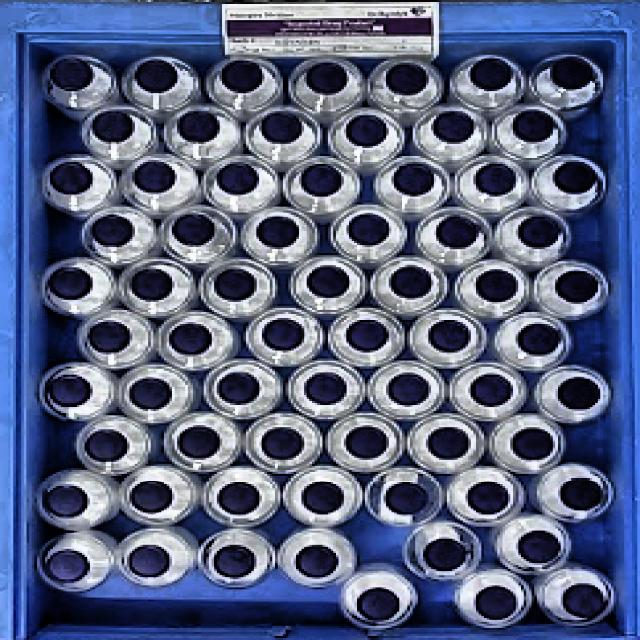vial: (553, 269, 613, 303), (382, 60, 437, 96), (466, 57, 518, 95), (212, 544, 261, 584), (340, 424, 390, 463), (130, 479, 182, 516), (509, 107, 558, 146), (298, 369, 351, 405), (296, 160, 346, 198), (548, 56, 599, 93), (124, 542, 175, 579), (211, 370, 263, 406), (558, 584, 610, 620), (86, 212, 135, 250), (509, 428, 562, 462), (513, 530, 563, 566), (264, 316, 310, 355), (422, 536, 468, 575), (382, 368, 431, 404), (262, 425, 307, 464), (550, 157, 596, 195), (385, 267, 436, 301), (132, 159, 177, 197), (354, 588, 404, 622), (515, 323, 562, 359), (382, 479, 429, 515), (343, 213, 394, 246), (518, 212, 562, 250), (46, 548, 90, 586), (554, 480, 603, 514), (47, 371, 92, 408), (555, 375, 600, 412), (130, 267, 178, 301), (212, 161, 256, 198), (474, 584, 519, 620), (432, 109, 478, 144), (436, 214, 483, 248), (305, 266, 352, 300), (216, 481, 263, 515), (306, 60, 350, 96), (177, 110, 225, 143), (172, 212, 220, 245), (469, 372, 514, 407), (428, 428, 473, 463), (91, 110, 138, 143), (258, 217, 305, 250), (167, 321, 214, 354), (130, 376, 177, 409), (132, 61, 178, 94), (426, 322, 472, 355), (470, 481, 512, 517), (393, 162, 436, 197), (48, 162, 95, 194), (345, 113, 389, 147), (88, 319, 132, 353), (258, 113, 306, 144), (178, 427, 220, 462), (296, 544, 339, 578), (220, 61, 265, 93), (84, 430, 125, 465), (348, 318, 390, 352), (476, 163, 522, 194), (45, 484, 92, 514), (212, 269, 255, 301), (476, 270, 519, 302), (301, 480, 344, 512), (50, 58, 94, 89), (49, 270, 90, 300)
